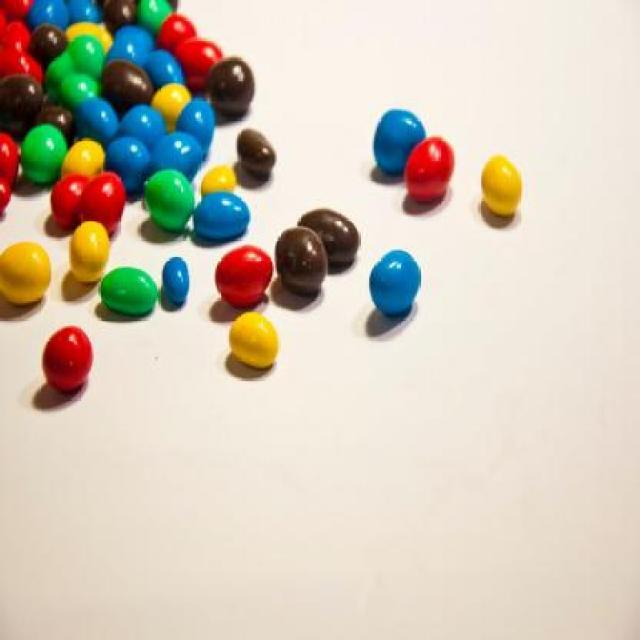Candy: (0, 0, 277, 315), (296, 202, 361, 270), (370, 242, 424, 322), (402, 130, 456, 206), (374, 106, 428, 180), (214, 245, 274, 308), (41, 325, 94, 393), (274, 225, 328, 290), (226, 305, 279, 370), (0, 242, 52, 303), (481, 154, 524, 214)
